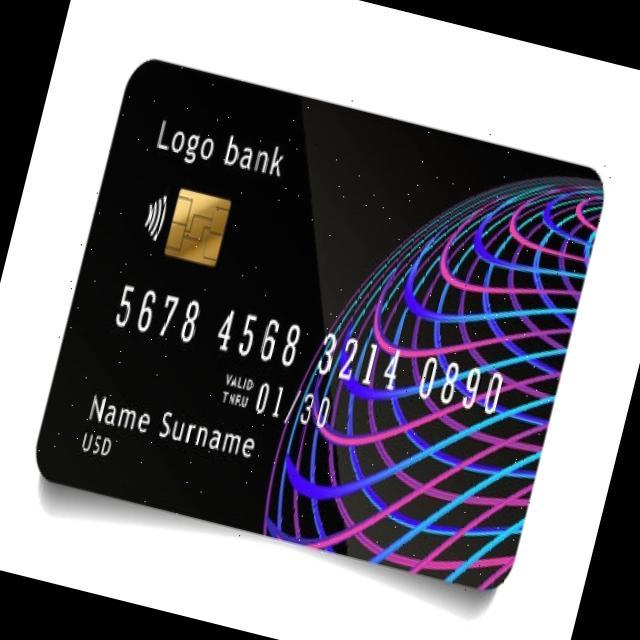payment_card: (34, 56, 605, 594)
